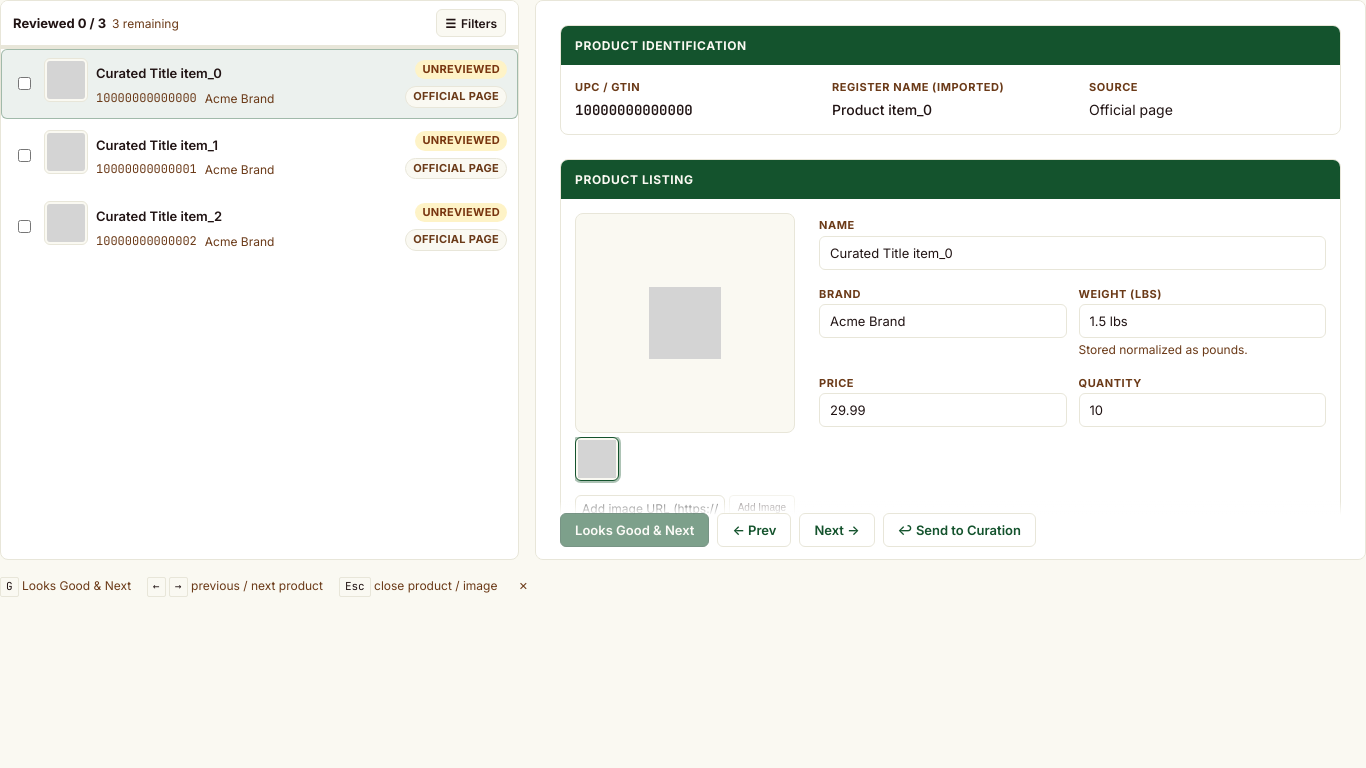
Test case: Challenger 2 Empirical Stress Suite // Milestone 1 (P1-C) › 2. Bulk Review Selection Gating (Fail-Closed Safety) › ReviewWorkspace disables bulk review button when any selected item has reviewGateStatus="blocked" or "unknown"
What coordinates should you click on to do the following:
click the checkbox named "Select Curated Title item_0 for bulk review"
I would click on:
 (24, 84)
Its box is [18, 77, 31, 90].
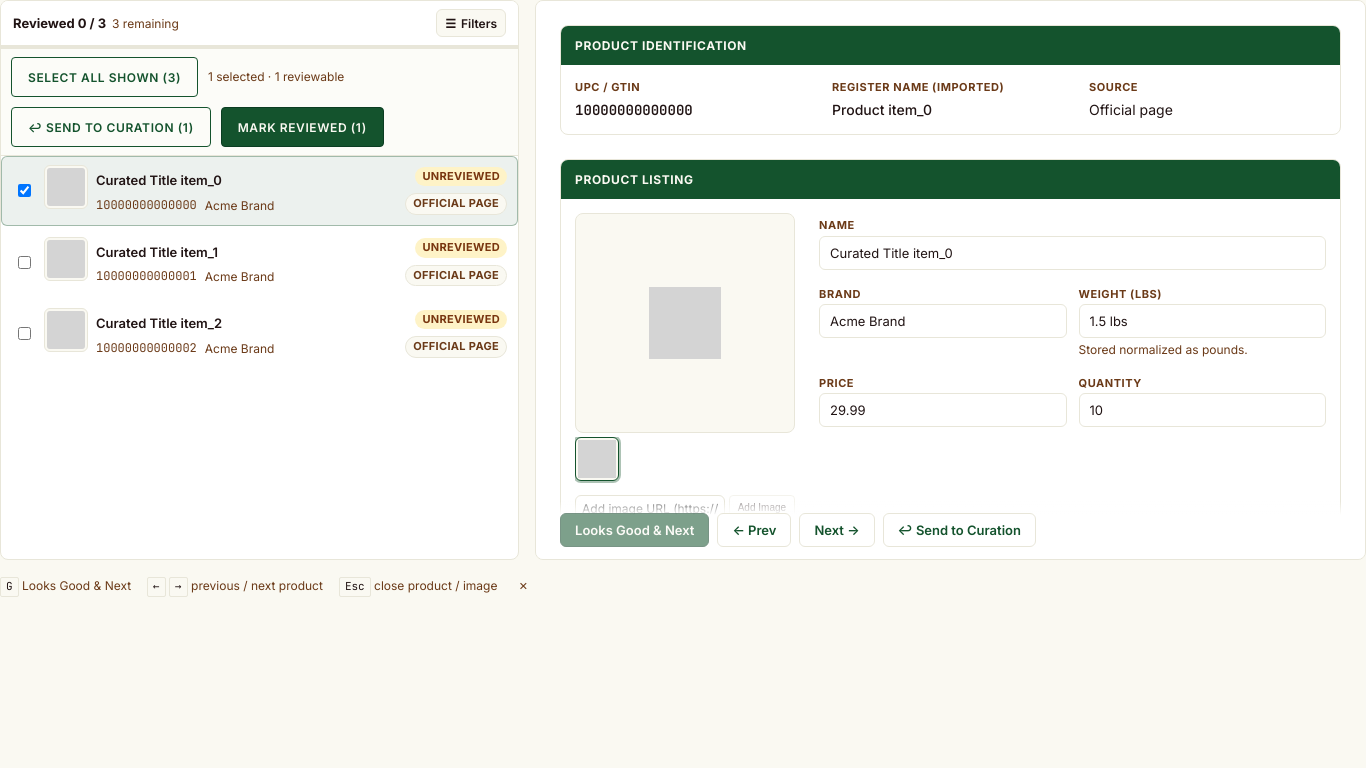
Expected: the button "Mark reviewed (1)" is enabled, [221, 107, 384, 147]
What coordinates should you click on to do the following:
click the checkbox named "Select Curated Title item_1 for bulk review"
I would click on:
 (24, 262)
Its box is [18, 256, 31, 269].
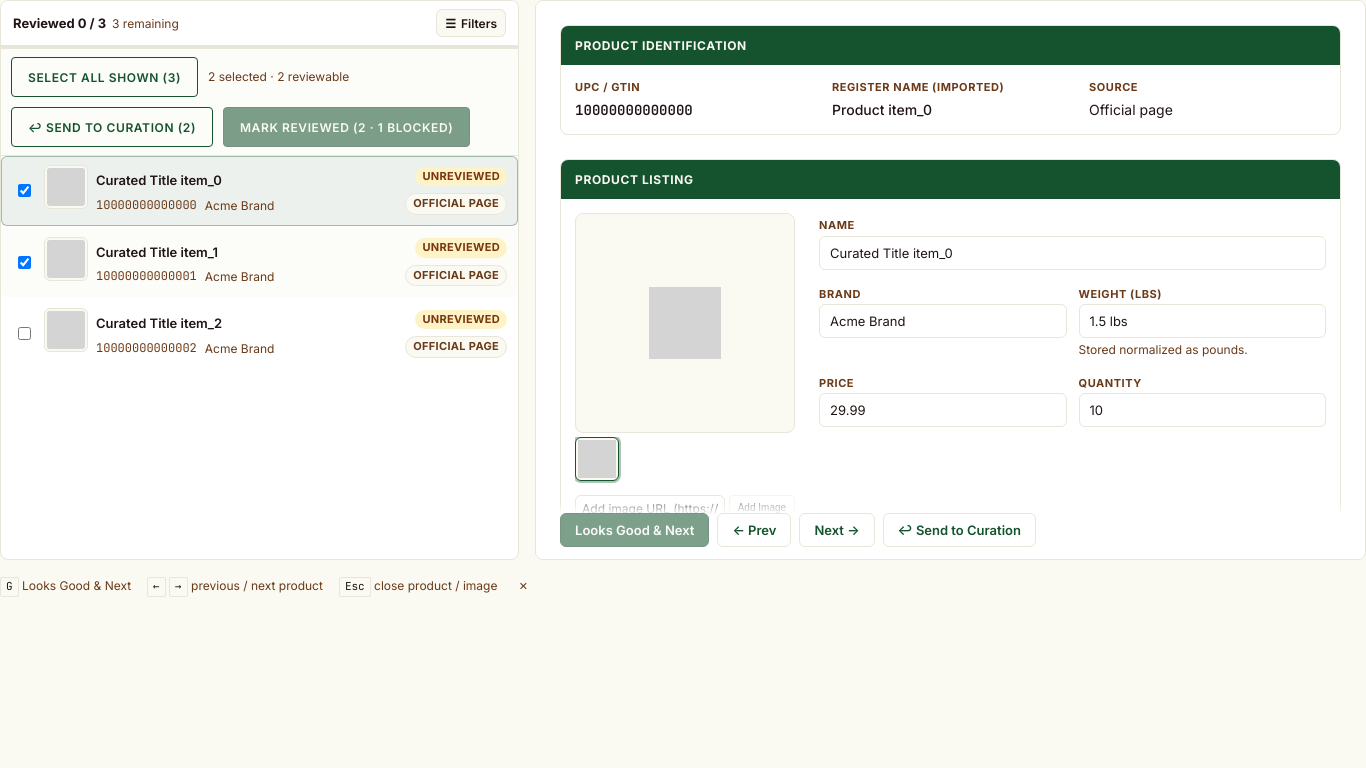
Expected: the button "Mark reviewed (2 · 1 blocked)" is disabled, [223, 107, 470, 147]
Expected: the button "Mark reviewed (2 · 1 blocked)" is shown, [223, 107, 470, 147]
What coordinates should you click on to do the following:
click the checkbox named "Select Curated Title item_2 for bulk review"
I would click on:
 (24, 334)
Its box is [18, 328, 31, 340].
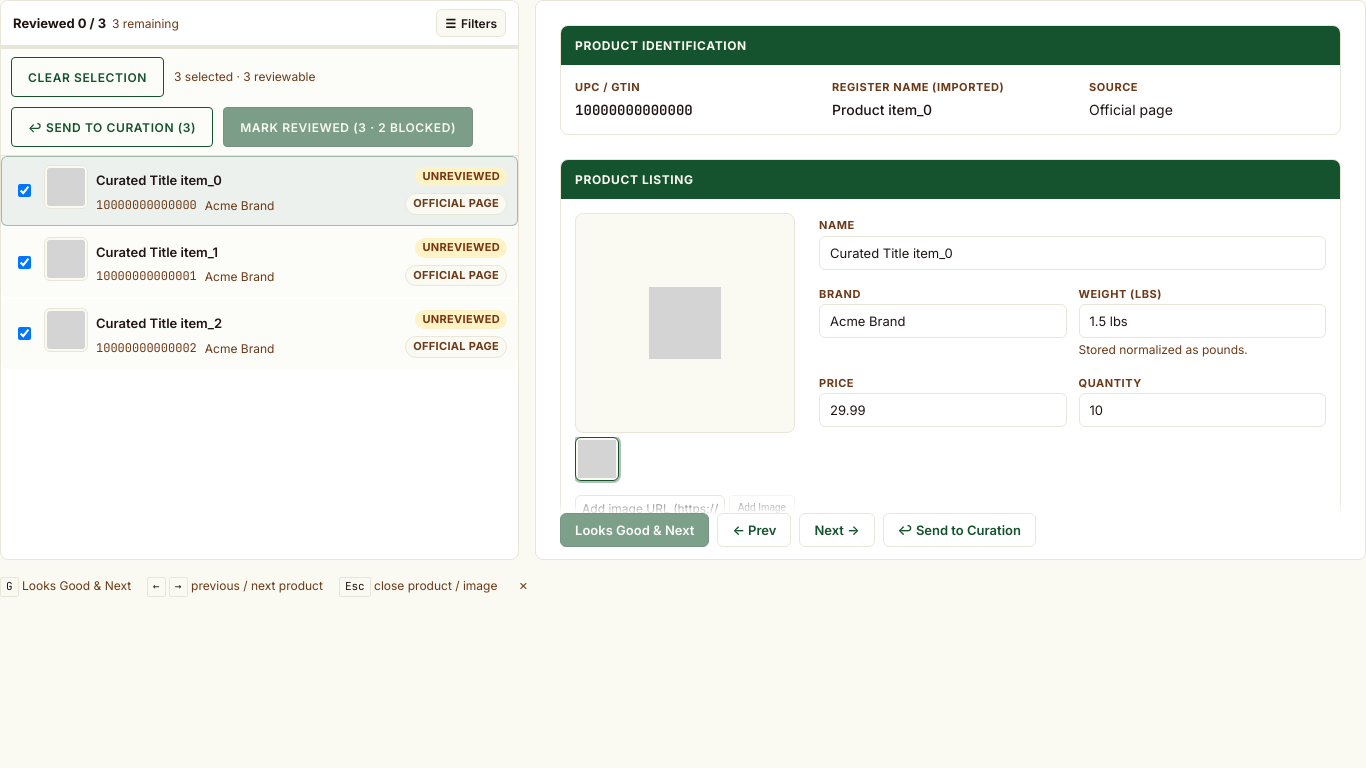
Expected: the button "Mark reviewed (3 · 2 blocked)" is disabled, [223, 107, 473, 147]
Expected: the button "Mark reviewed (3 · 2 blocked)" is shown, [223, 107, 473, 147]
